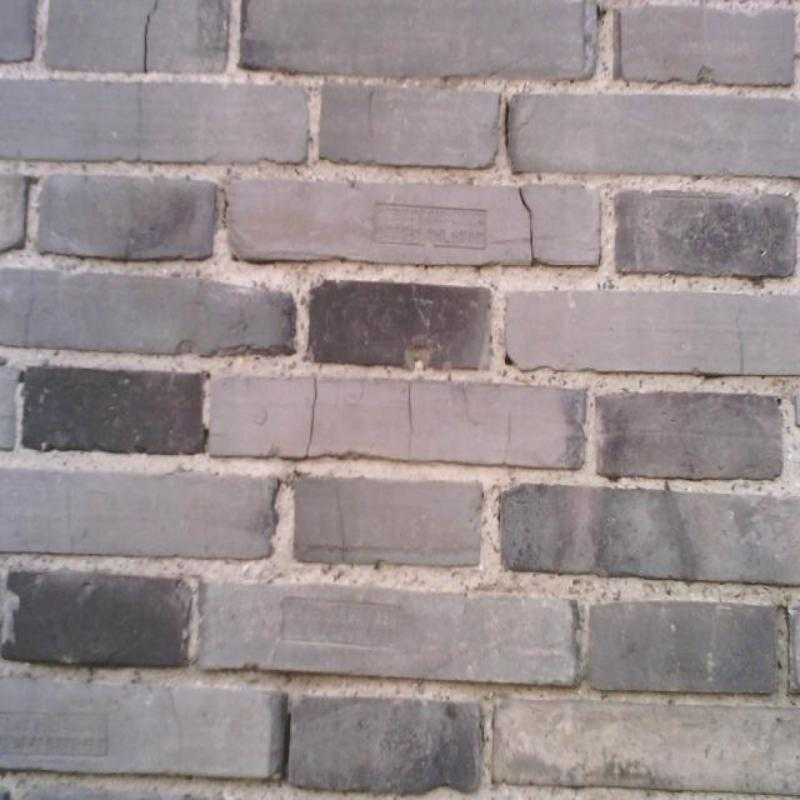pothole: (519, 186, 538, 267), (462, 382, 491, 427), (144, 0, 160, 73), (166, 688, 184, 751), (305, 377, 318, 459), (24, 270, 36, 348), (335, 489, 346, 564), (65, 489, 77, 552), (281, 714, 291, 780), (501, 411, 512, 467), (736, 308, 744, 375), (137, 84, 144, 135), (408, 382, 414, 435), (369, 88, 375, 137), (505, 101, 510, 149)
